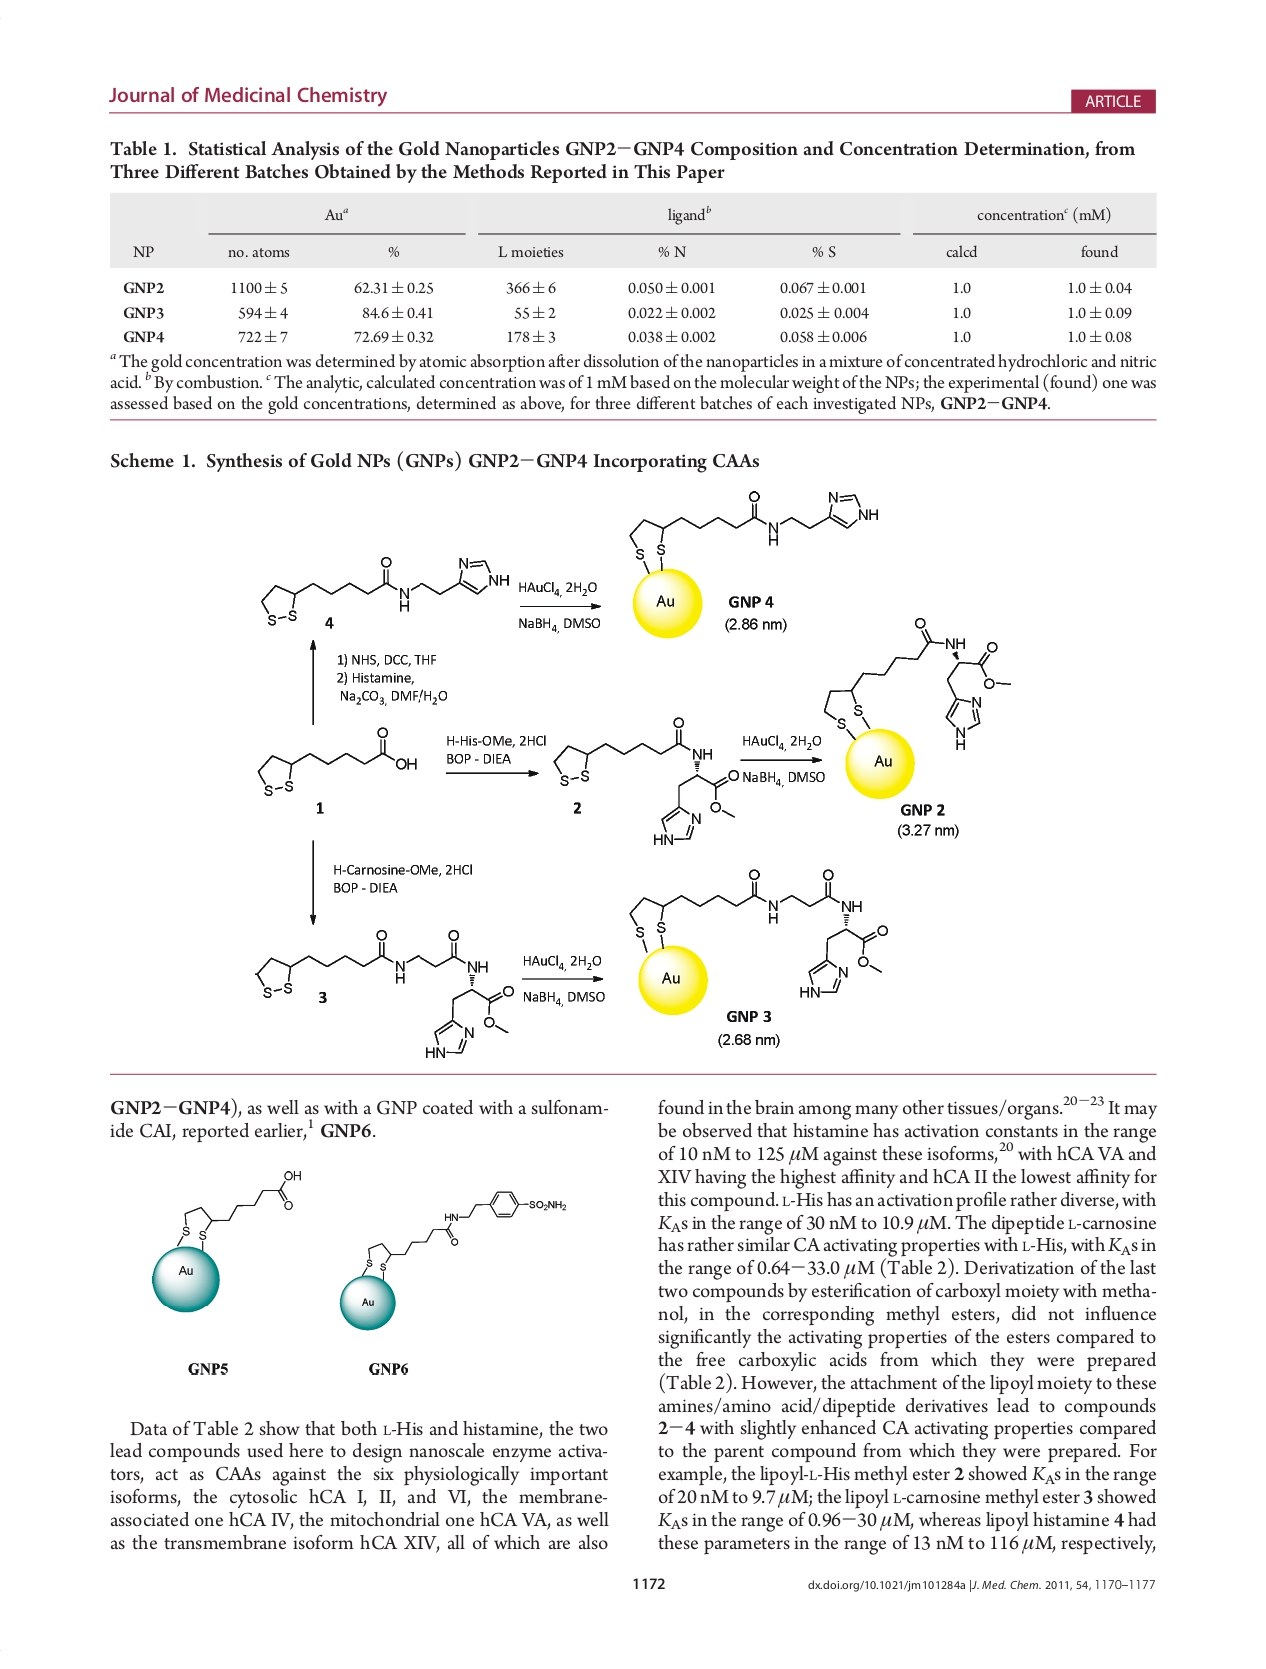exist_molecular: (620, 483, 880, 641), (626, 864, 894, 1017), (822, 617, 1015, 805), (251, 928, 515, 1060), (336, 1189, 570, 1334), (549, 714, 742, 852), (146, 1168, 305, 1314), (255, 552, 513, 634), (251, 725, 420, 799)
